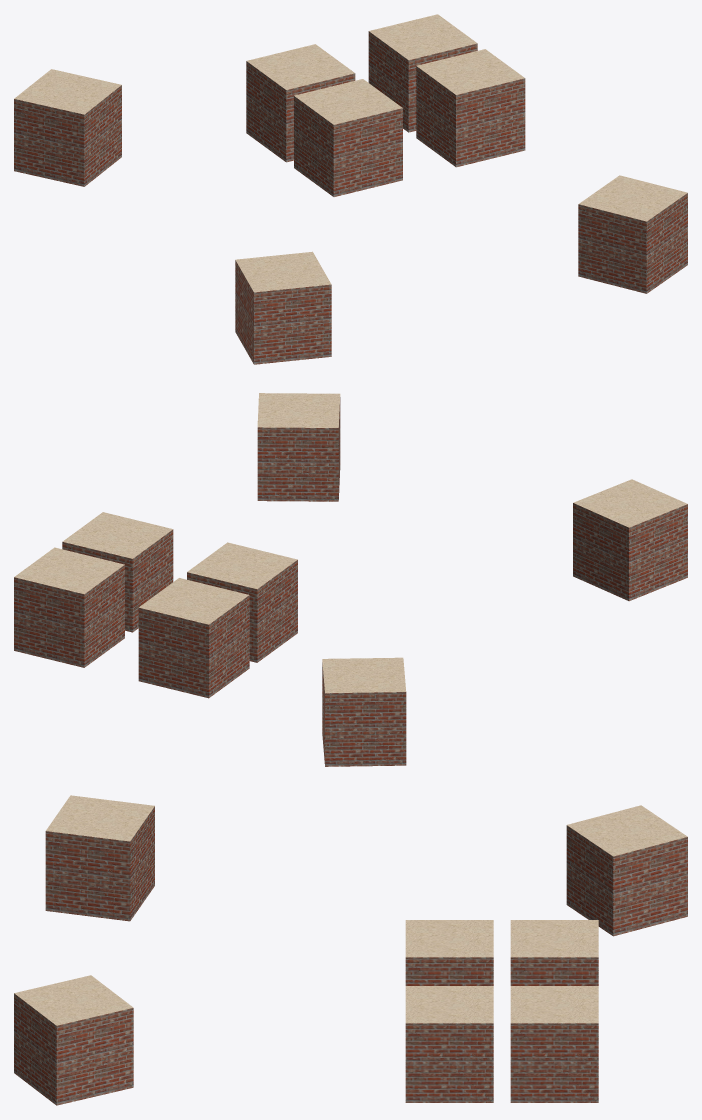
File: world.glb
The picture shows the model from 3 angles, top to bottom: view 1: azimuth 30°, elevation 25°; view 2: azimuth 150°, elevation 25°; view 3: azimuth 270°, elevation 25°; orthographic projection. The views are drawn at different scales.
Parts seen in each view (by area): view 1: Plane.005, Plane.002, Plane.001, Plane.003, Plane.004, Plane.007, Plane.006; view 2: Plane.004, Plane.007, Plane.006, Plane.003, Plane.005, Plane.001, Plane.002; view 3: Plane.003, Plane.005, Plane.004, Plane.002, Plane.006, Plane.001, Plane.007.
Part boxes in pixels (bbox=[...]): Plane.005: bbox=[578, 175, 687, 293]; Plane.002: bbox=[416, 49, 525, 167]; Plane.001: bbox=[294, 79, 402, 196]; Plane.003: bbox=[14, 69, 121, 186]; Plane.004: bbox=[235, 251, 331, 364]; Plane.007: bbox=[246, 44, 355, 162]; Plane.006: bbox=[368, 14, 477, 132]; Plane.004: bbox=[573, 479, 687, 601]; Plane.007: bbox=[138, 578, 249, 698]; Plane.006: bbox=[14, 547, 124, 667]; Plane.003: bbox=[322, 657, 406, 766]; Plane.005: bbox=[257, 393, 340, 501]; Plane.001: bbox=[187, 542, 297, 662]; Plane.002: bbox=[62, 512, 173, 632]; Plane.003: bbox=[566, 805, 687, 936]; Plane.005: bbox=[14, 975, 133, 1105]; Plane.004: bbox=[45, 795, 154, 921]; Plane.002: bbox=[405, 986, 493, 1102]; Plane.006: bbox=[510, 986, 598, 1102]; Plane.001: bbox=[405, 920, 493, 985]; Plane.007: bbox=[510, 920, 598, 985].
Size of what is drawn, in the model's own units: 30.93 by 5 by 38.23.
2 materials, 2 textured.
